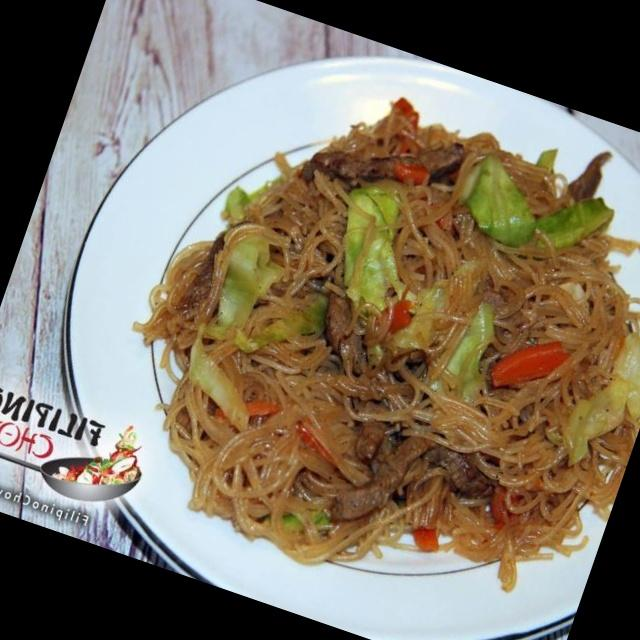pancit bihon: (160, 111, 639, 560)
